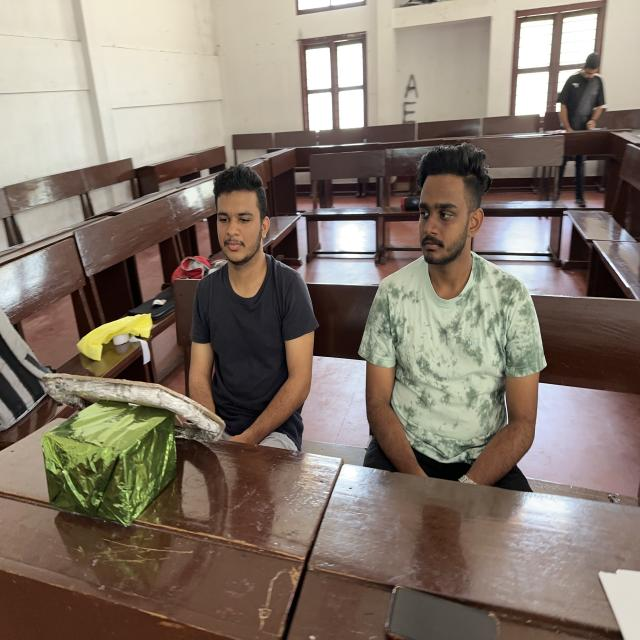no-seatbelt: (364, 260, 535, 506), (190, 262, 312, 458)
